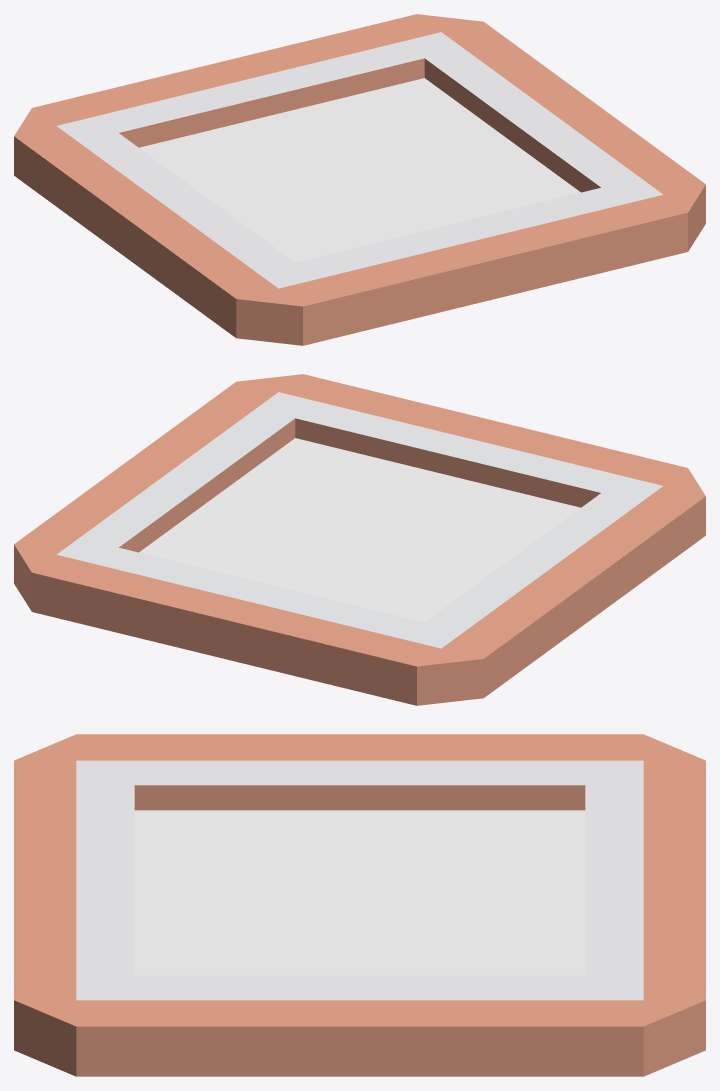
File: metalTile.glb
3 renders of one model, top to bottom at view 1: azimuth 30°, elevation 25°; view 2: azimuth 150°, elevation 25°; view 3: azimuth 270°, elevation 25°, orthographic. The views are drawn at different scales.
Visible parts, largest first — view 1: metalTile; view 2: metalTile; view 3: metalTile.
Boxes of the visible parts, <box> form: metalTile: <box>14,14,705,345</box>; metalTile: <box>14,374,705,705</box>; metalTile: <box>14,734,705,1076</box>.
Bounding box in the file's own units: 10 × 0.8 × 10.
